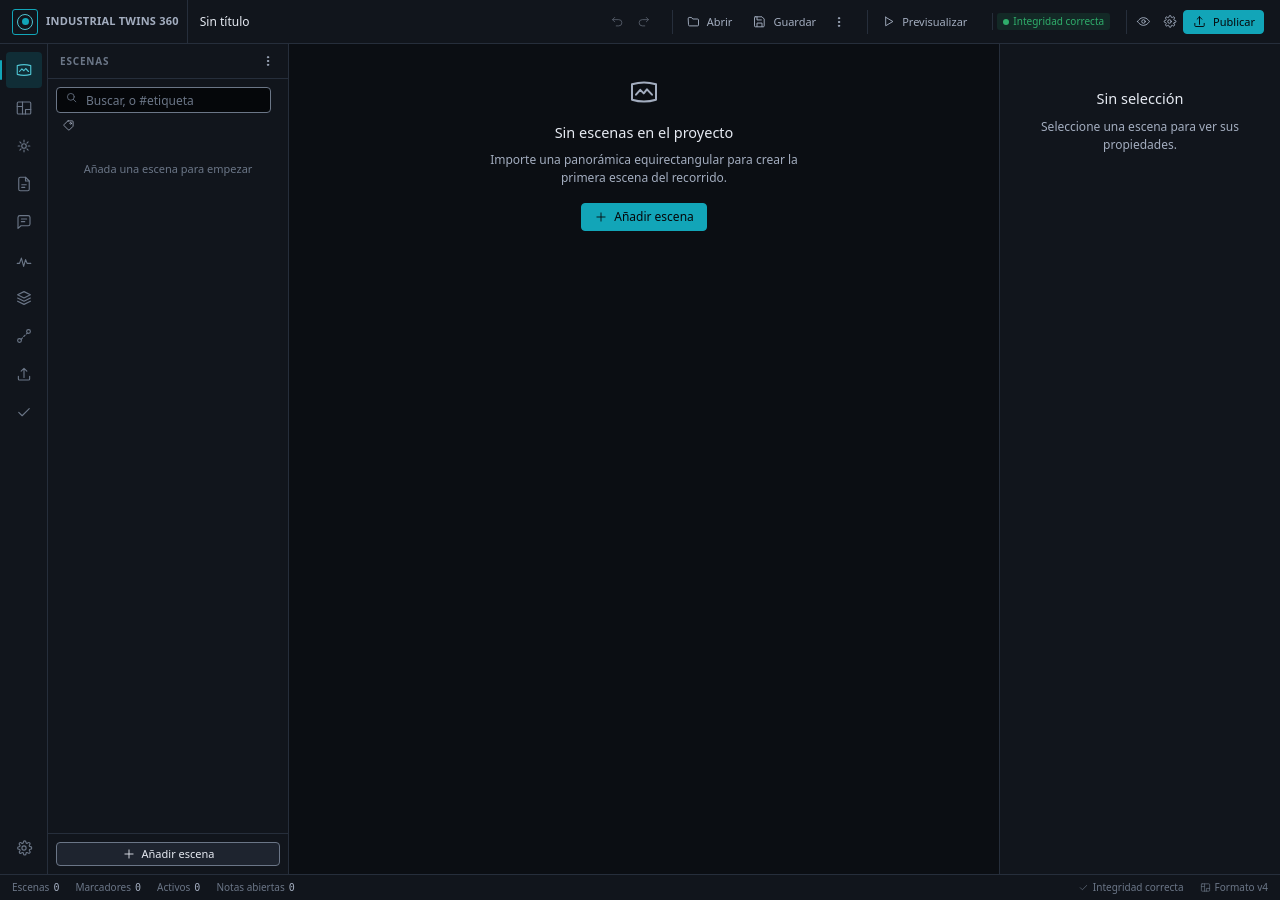
Test: previsualizar (Y07) › TEST-PLC-008 sin escenas se dice que no hay nada que ver
This screenshot has width=1280, height=900.
Click the button "Previsualizar" at (924, 22), box left=872, top=10, right=976, bottom=34
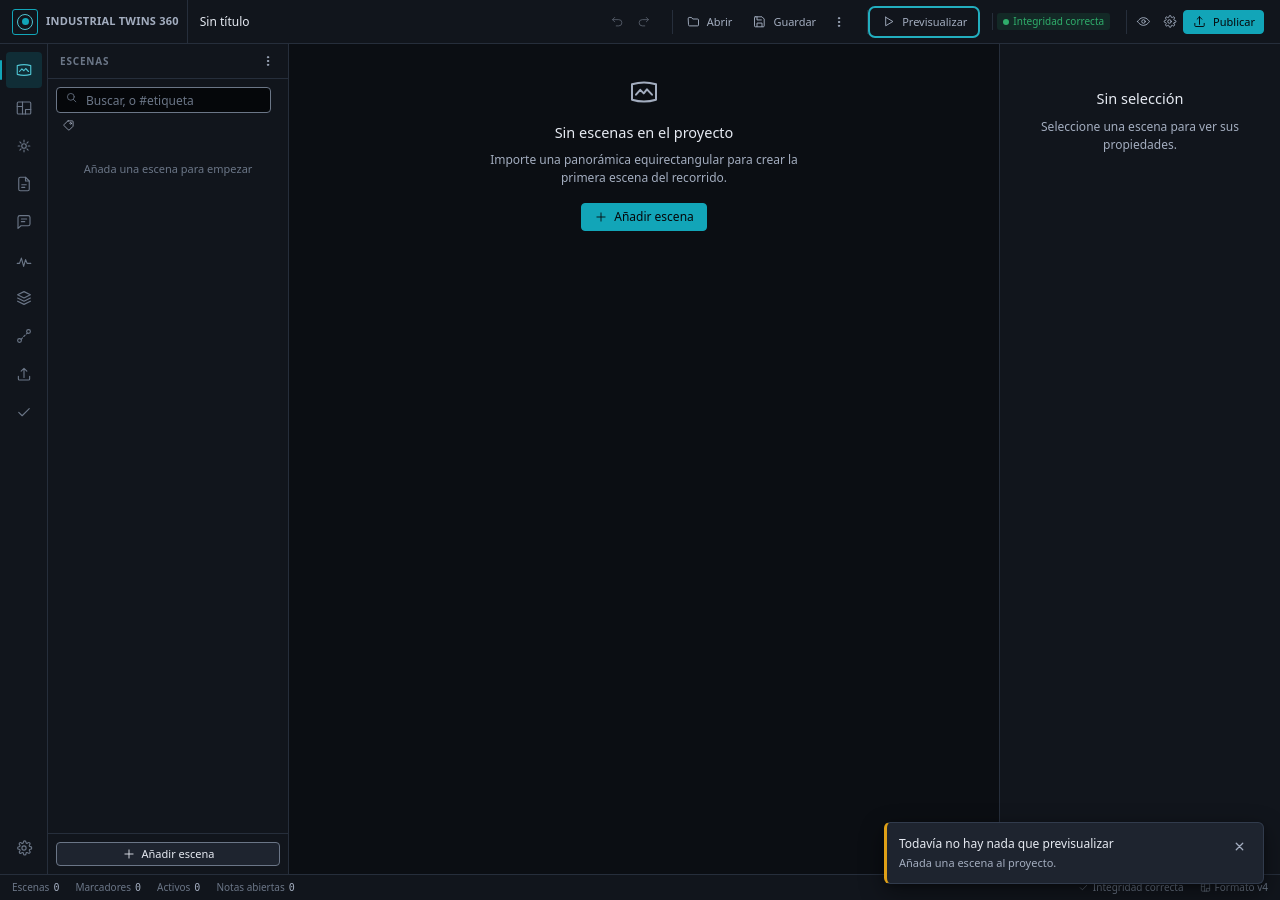
Expected: the text "Todavía no hay nada que previsualizar" is shown, left=899, top=834, right=1114, bottom=852
